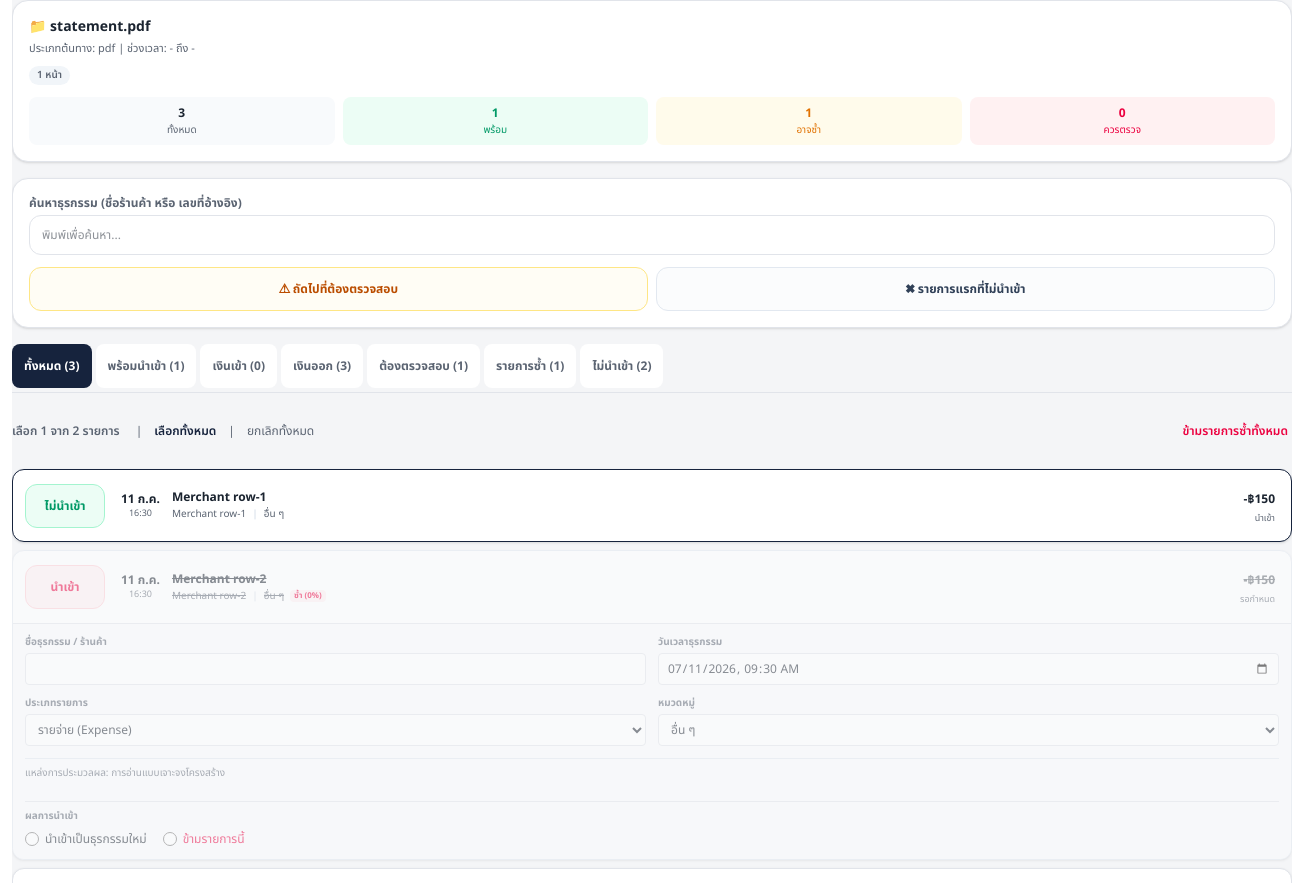
Test: History Import Review Selection Model › selects all and clears all correct bulk behaviors
Expected: the button "เลือกทั้งหมด" is shown, [150,409,220,453]
What coordinates should you click on to do the following:
click the button "ยกเลิกทั้งหมด"
I would click on:
 (281, 431)
Its box is [243,409,318,453].
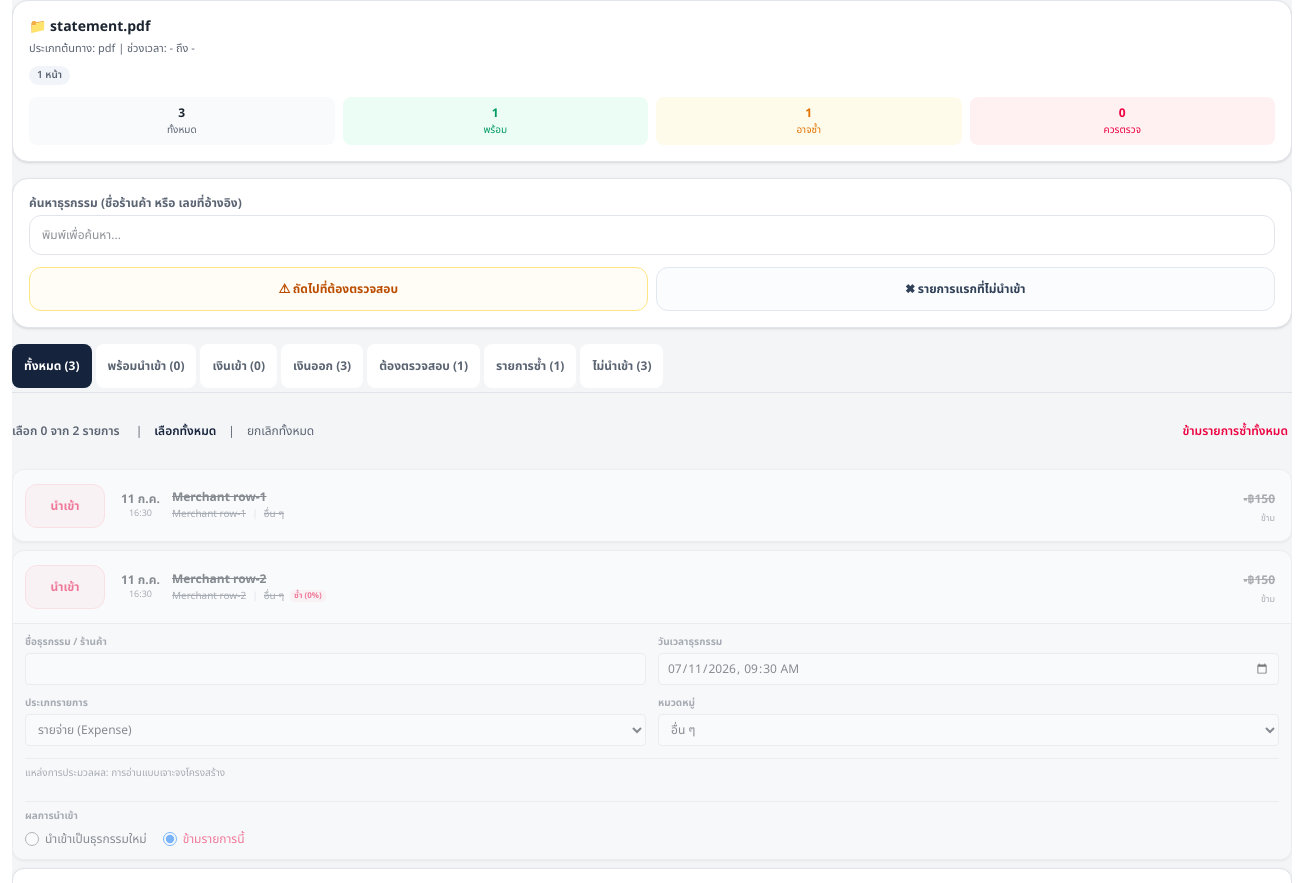
Expected: the text "เลือก 0 จาก 2 รายการ" is shown, [12,423,120,439]
What coordinates should you click on to do the following:
click the button "เลือกทั้งหมด"
I would click on:
 (185, 431)
Its box is [150,409,220,453].
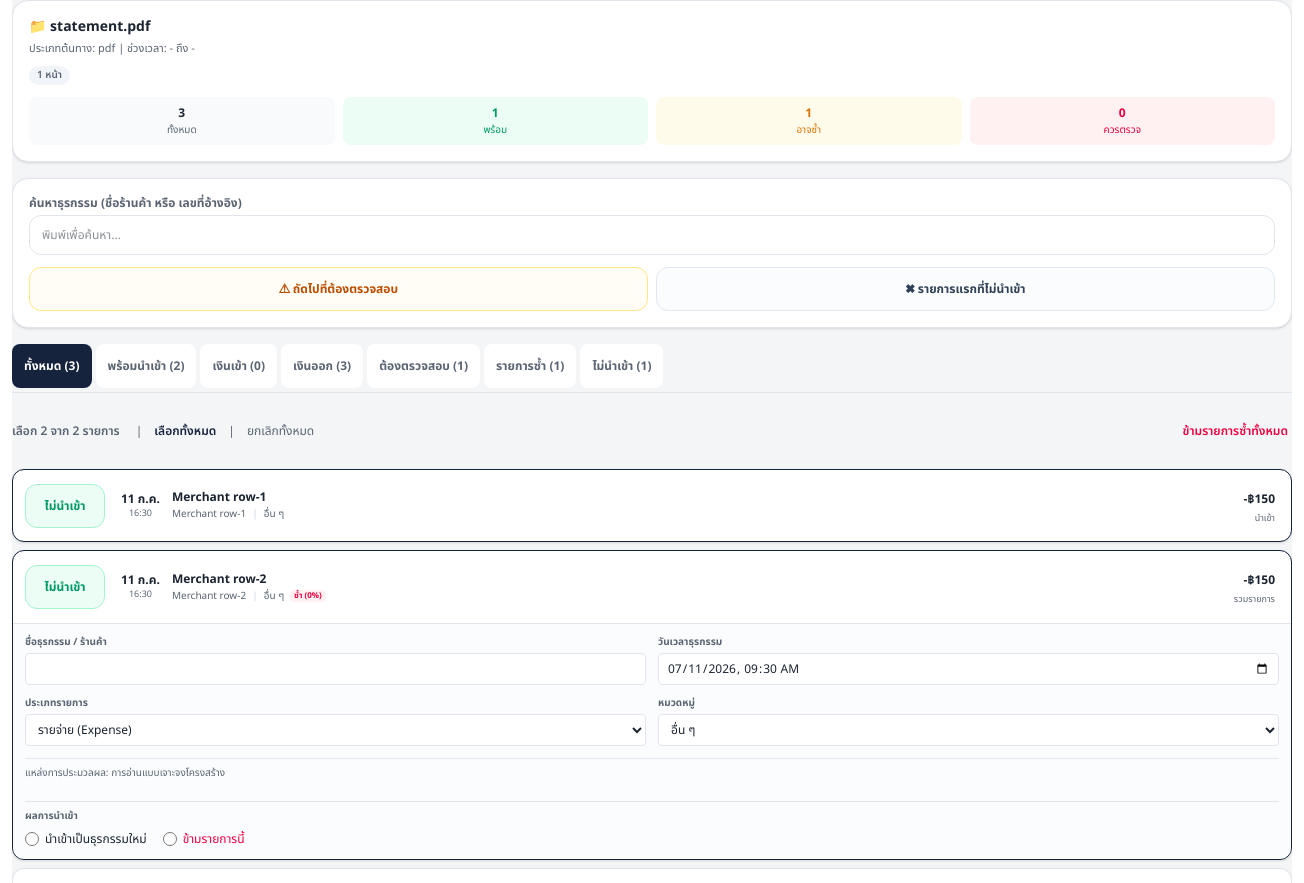
Expected: the text "เลือก 2 จาก 2 รายการ" is shown, [12,423,120,439]
